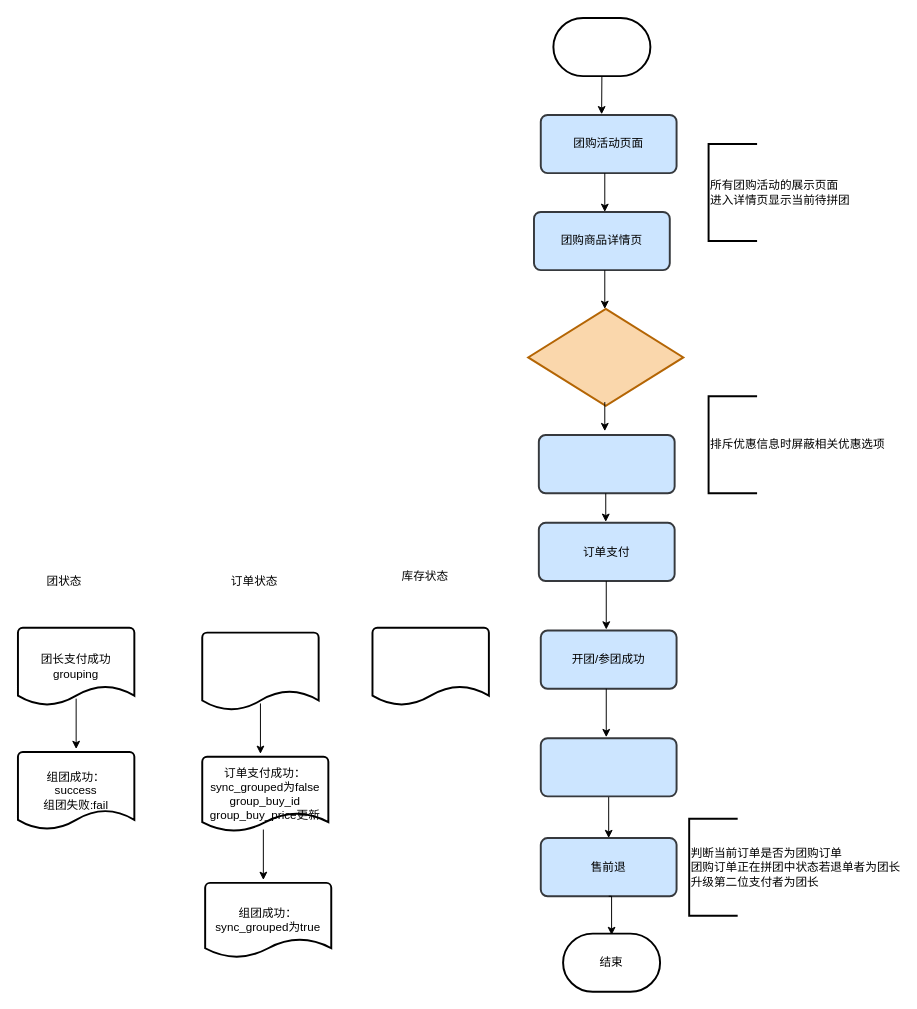
Some shapes in this 917 by 1009 pixel diagram are drawn without their labels. The shapes that lost their labels are listed below. From the top down, each one's box as (x1, y1, x2, y2) in pixels, then its label:
(552, 16, 651, 77): 开始
(527, 307, 684, 406): 开团/参团/直接购买
(537, 434, 675, 494): 订单确认
(201, 631, 319, 711): 订单确认：订单待支付
(371, 626, 489, 706): 按原有下单流程操作库存，团购中未改动原有库存流程
(539, 737, 677, 797): 发货/不发货
